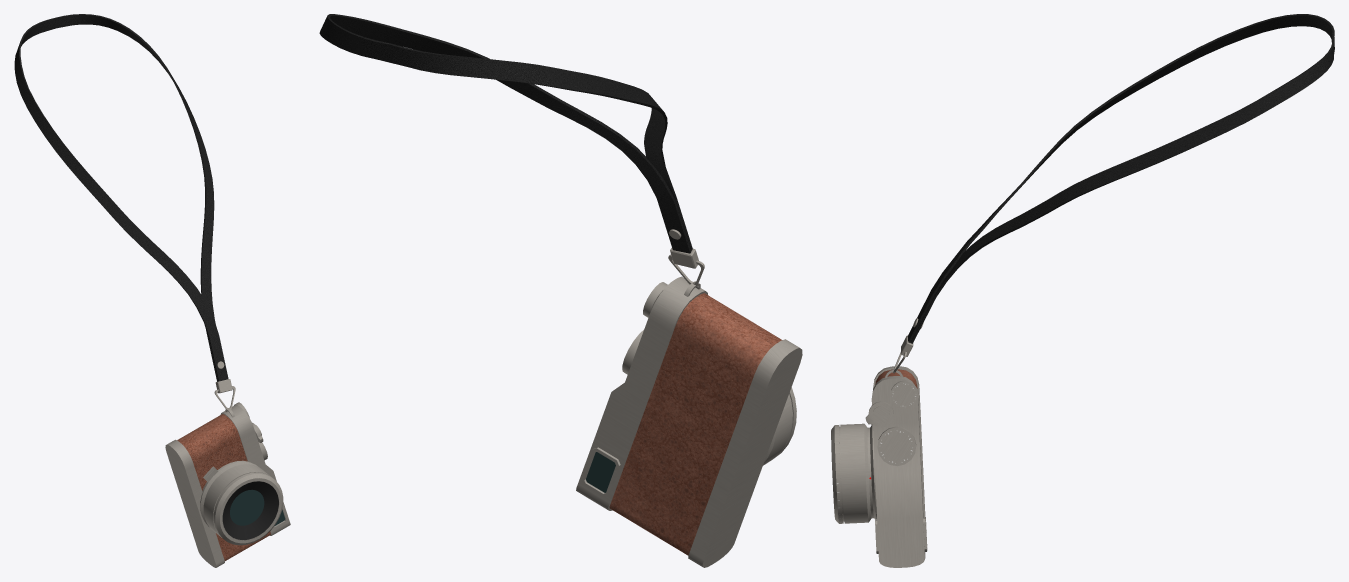
File: camera-blown.glb
The picture shows the model from 3 angles, left to right: view 1: azimuth 30°, elevation 25°; view 2: azimuth 150°, elevation 25°; view 3: azimuth 270°, elevation 25°; orthographic projection. The views are drawn at different scales.
Parts seen in each view (by area): view 1: Camera_body, CameraStrap; view 2: Camera_body, CameraStrap; view 3: Camera_body, CameraStrap.
Part boxes in pixels (x1,y1,x2,y2): Camera_body: [165, 402, 290, 567]; CameraStrap: [14, 14, 235, 410]; Camera_body: [576, 276, 802, 567]; CameraStrap: [319, 14, 704, 286]; Camera_body: [831, 366, 927, 567]; CameraStrap: [893, 14, 1334, 373].
Bounding box in the file's own units: 0.1255 × 0.3488 × 0.3011.
3 materials, 2 textured.
